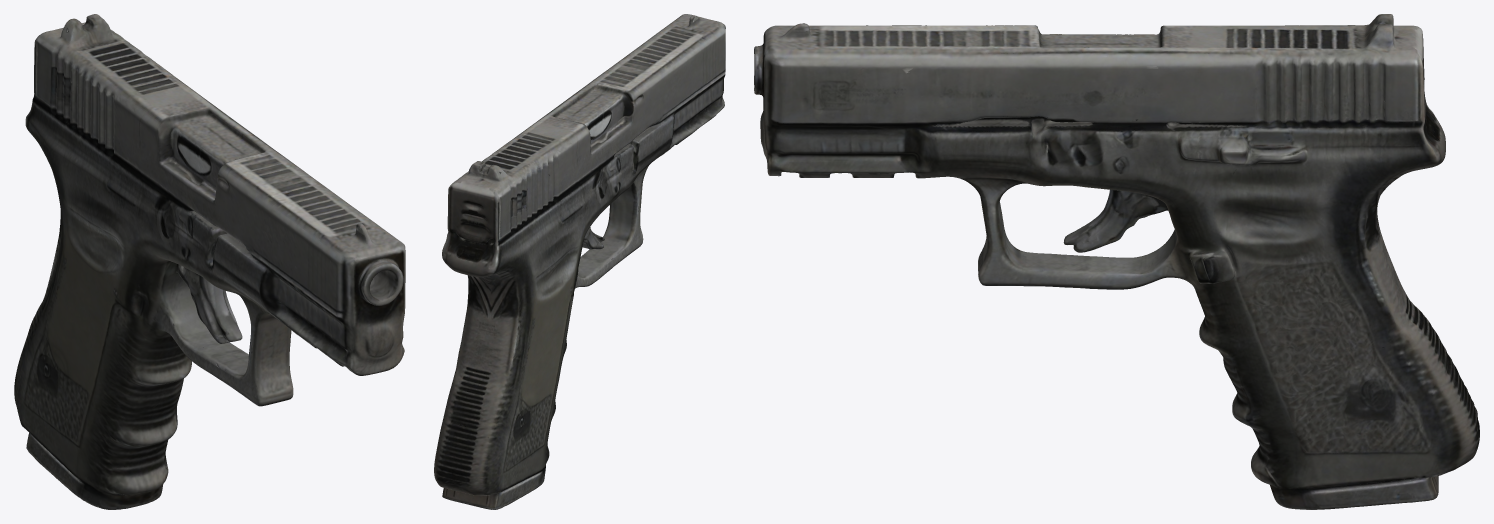
File: gun_fps_hand.glb
3 views of the same model, side by side, from view 1: azimuth 30°, elevation 25°; view 2: azimuth 150°, elevation 25°; view 3: azimuth 270°, elevation 25° (orthographic). The views are drawn at different scales.
Visible parts, largest first — view 1: Object_4, Object_5; view 2: Object_4, Object_5; view 3: Object_4, Object_5.
Part boxes in pixels (x1=…): Object_4: x1=14, y1=14, x2=405, y2=509; Object_5: x1=14, y1=56, x2=405, y2=507; Object_4: x1=441, y1=14, x2=725, y2=509; Object_5: x1=434, y1=15, x2=724, y2=509; Object_4: x1=760, y1=14, x2=1479, y2=509; Object_5: x1=754, y1=23, x2=1479, y2=509.
Bounding box in the file's own units: 0.3168 × 1.44 × 2.
1 material, 1 textured.
